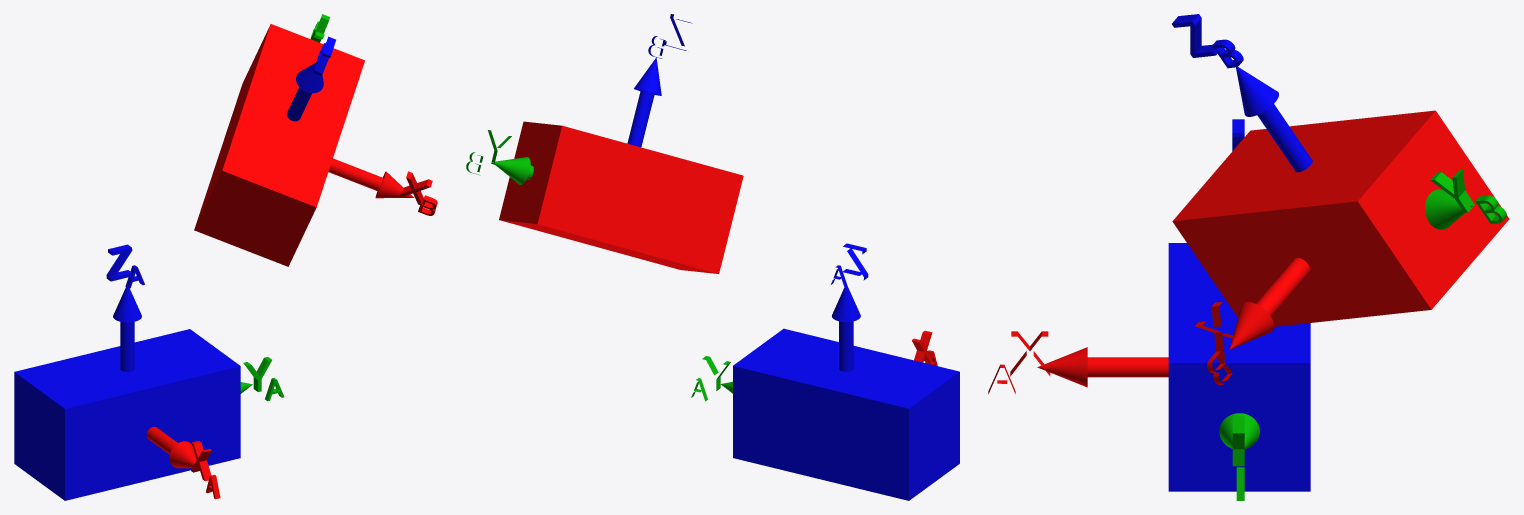
File: fig2_4.gltf
3 renders of one model, left to right at view 1: azimuth 30°, elevation 25°; view 2: azimuth 150°, elevation 25°; view 3: azimuth 270°, elevation 25°, orthographic. The views are drawn at different scales.
Visible parts, largest first — view 1: Renderer Node; view 2: Renderer Node; view 3: Renderer Node.
Boxes of the visible parts, bbox=[...] form: Renderer Node: bbox=[14, 14, 437, 500]; Renderer Node: bbox=[466, 14, 959, 500]; Renderer Node: bbox=[988, 14, 1509, 500].
Size of the model in its own units: 3.1 by 2.96 by 2.57.
